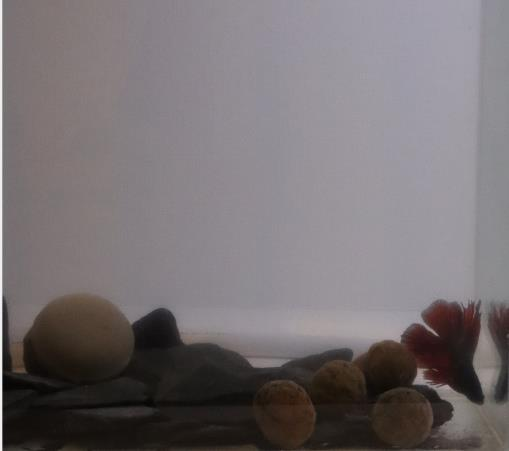fish: (401, 294, 491, 406)
